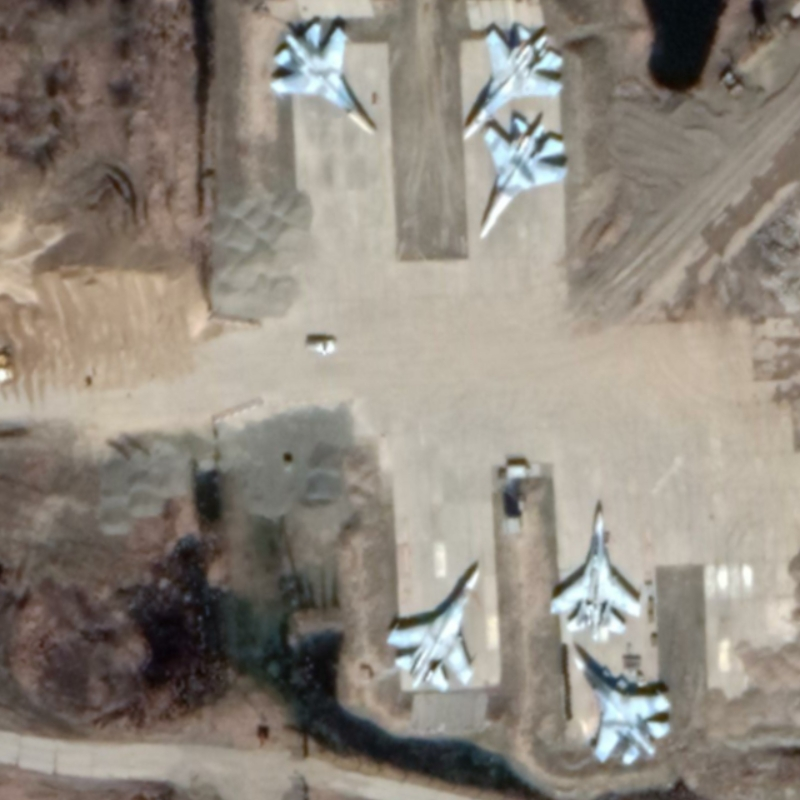A1: (268, 20, 382, 139), (547, 507, 644, 645), (460, 23, 566, 142), (385, 565, 482, 695), (570, 652, 673, 767), (476, 115, 569, 239)
